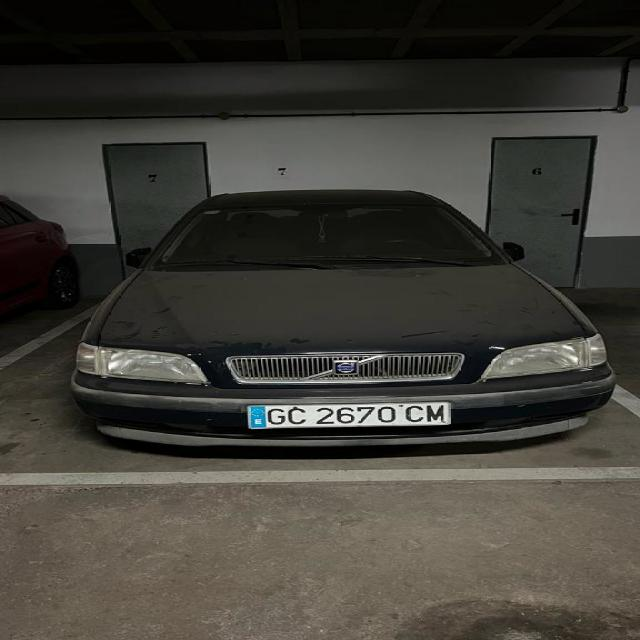License-Plate: (243, 399, 452, 430)
